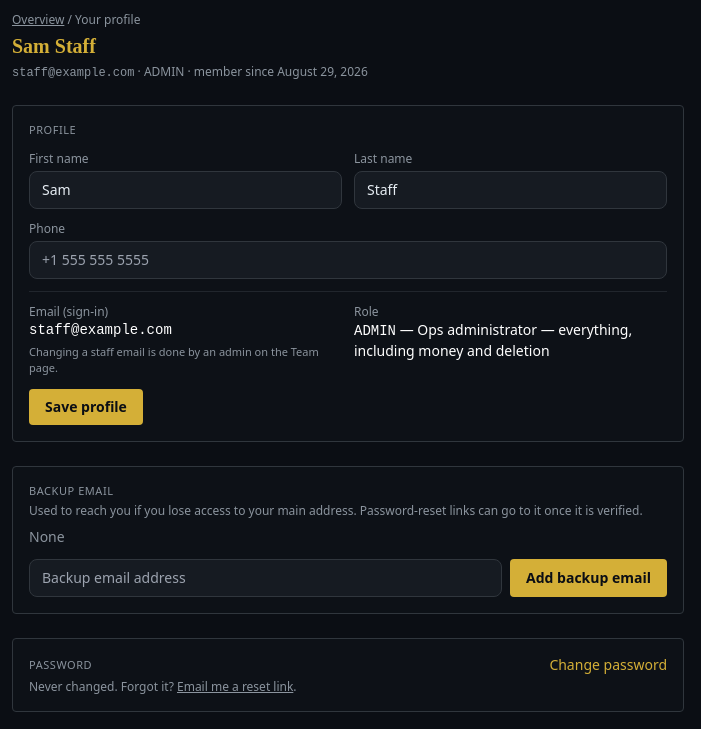
Test case: ops profile — backup email card › an api refusal shows in the page notice, in the error tone
expect the element with test id "backup-email-section" is shown: met, box top-left (12, 466), bottom-right (684, 614)
In the field with test id "backup-email-input": [266, 578] box top-left (29, 559), bottom-right (502, 597), type "taken@example.com"
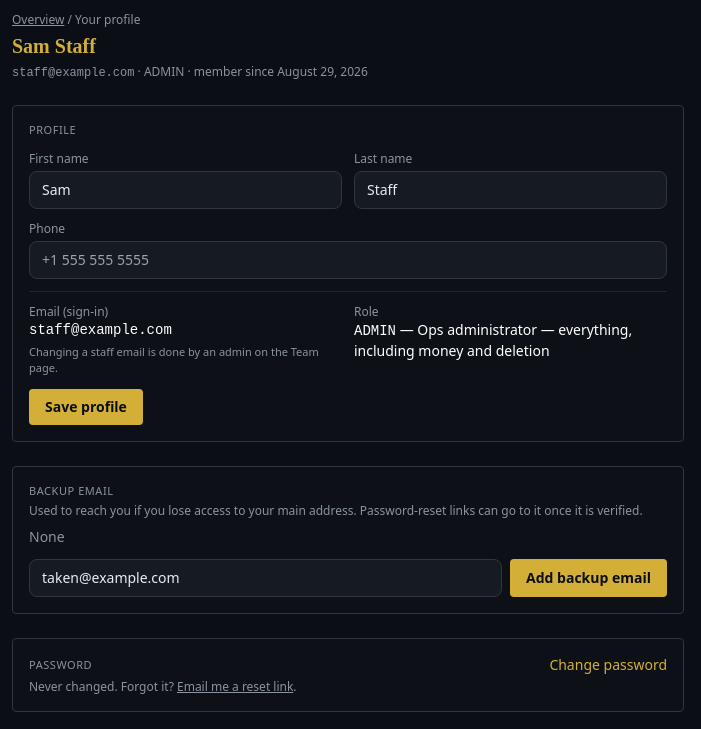
Click the button with test id "backup-email-add": [589, 578] box top-left (510, 559), bottom-right (667, 597)
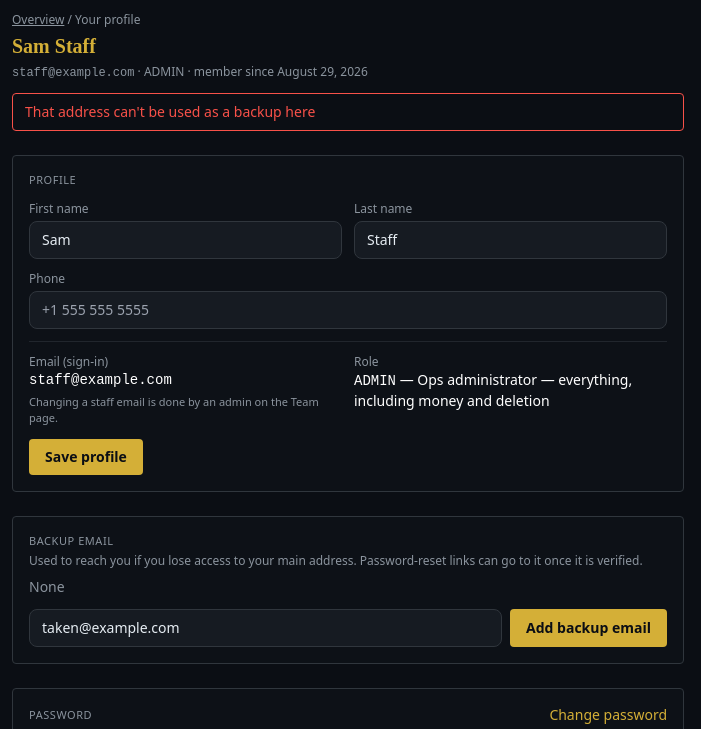
expect the message with test id "profile-notice" reads "That address can't be used as a backup here": met, box top-left (25, 102), bottom-right (315, 121)
